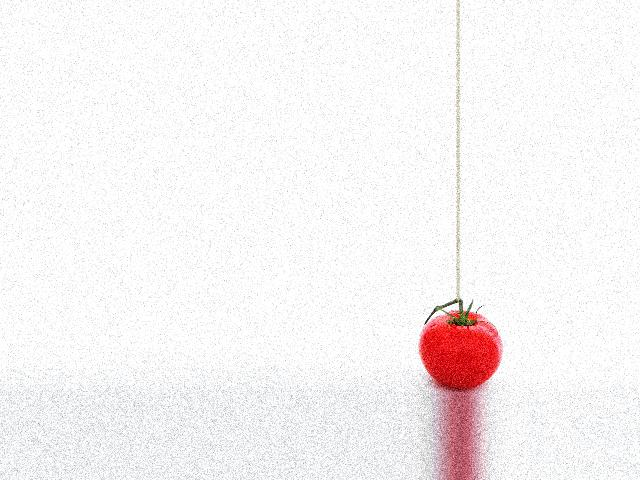tomato: (419, 311, 504, 389)
